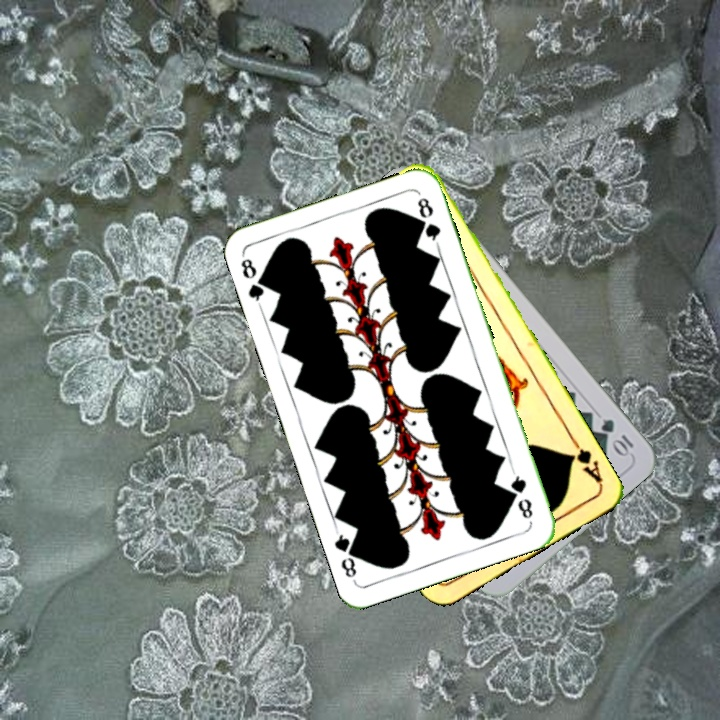G10: (596, 414, 637, 459)
G8: (236, 252, 272, 310), (506, 467, 536, 522)
GA: (564, 434, 606, 487)
